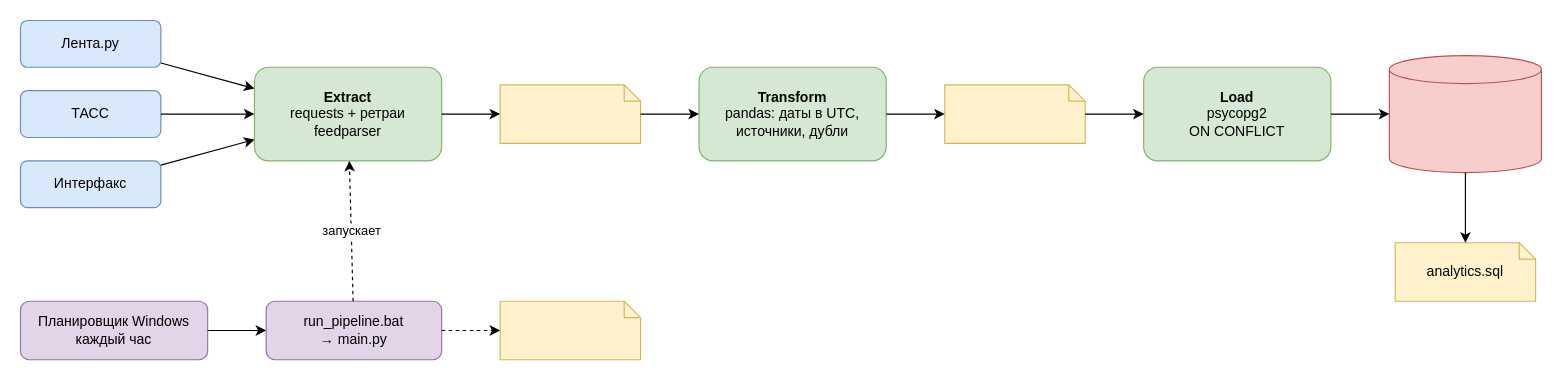
Image size: 1562x380. Some labels were removed from this diagram. The shapes that lost their labels are listed below. From the top down, each one's centre as x and y in pixels, then its label:
At point 570,113: "raw_news.csv".
At point 1014,113: "clean_news.csv".
At point 1464,113: "PostgreSQL таблица news".
At point 570,330: "pipeline.log".
